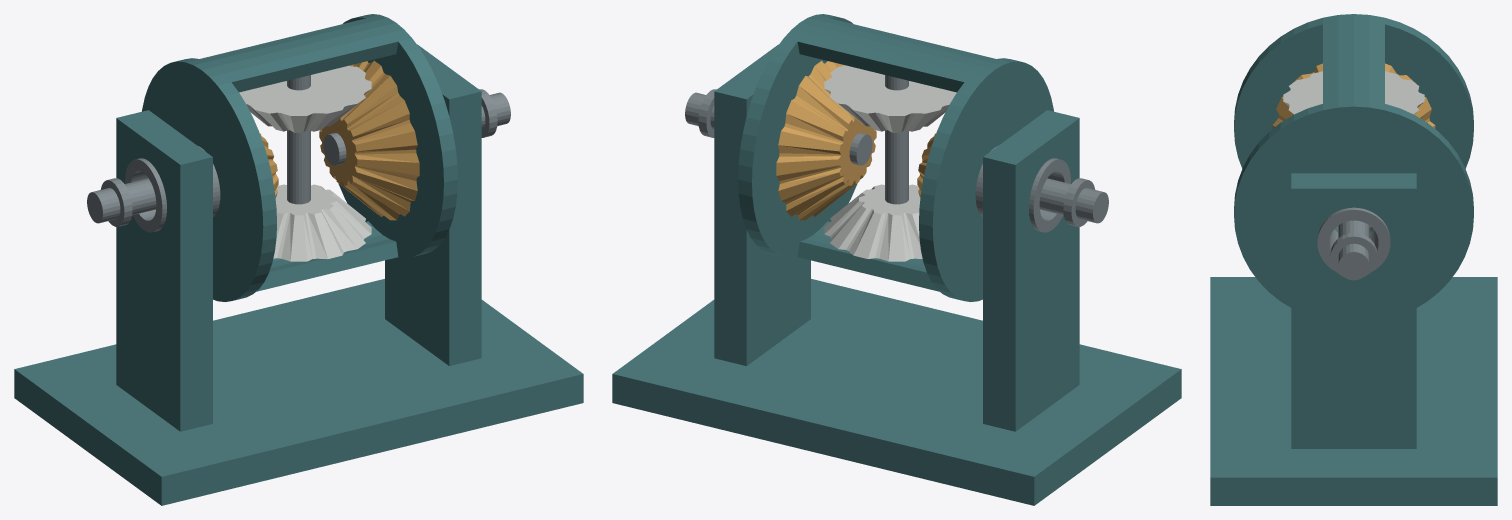
The picture shows the model from 3 angles, left to right: view 1: azimuth 30°, elevation 25°; view 2: azimuth 150°, elevation 25°; view 3: azimuth 270°, elevation 25°; orthographic projection. The views are drawn at different scales.
Visible parts, largest first — view 1: WholeGroundedDisplayBase, WholeTwoWindowIntegralCarrier, LeftWholeBoredPedestal, RightWholeBoredPedestal, RightWholeConicalSideGear, LowerWholeConicalSpiderGear, UpperWholeConicalSpiderGear, WholeCarrierCrossPin, LeftCarrierJournal, LeftWholeOutputStubShaft, RightWholeOutputStubShaft, LeftFixedShaftStop; view 2: WholeGroundedDisplayBase, WholeTwoWindowIntegralCarrier, LeftWholeBoredPedestal, RightWholeBoredPedestal, RightWholeConicalSideGear, LowerWholeConicalSpiderGear, UpperWholeConicalSpiderGear, WholeCarrierCrossPin, LeftCarrierJournal, LeftWholeOutputStubShaft, RightWholeOutputStubShaft, LeftFixedShaftStop; view 3: WholeGroundedDisplayBase, WholeTwoWindowIntegralCarrier, RightWholeBoredPedestal, UpperWholeConicalSpiderGear, RightCarrierJournal, RightWholeOutputStubShaft, RightFixedShaftStop, LeftWholeConicalSideGear.
Part boxes in pixels (bbox=[...]): WholeGroundedDisplayBase: bbox=[14, 279, 583, 505]; WholeTwoWindowIntegralCarrier: bbox=[142, 14, 457, 301]; LeftWholeBoredPedestal: bbox=[116, 110, 212, 431]; RightWholeBoredPedestal: bbox=[385, 44, 481, 365]; RightWholeConicalSideGear: bbox=[319, 60, 419, 220]; LowerWholeConicalSpiderGear: bbox=[273, 184, 371, 261]; UpperWholeConicalSpiderGear: bbox=[239, 65, 371, 132]; WholeCarrierCrossPin: bbox=[287, 75, 310, 204]; LeftCarrierJournal: bbox=[125, 146, 220, 232]; LeftWholeOutputStubShaft: bbox=[87, 178, 156, 223]; RightWholeOutputStubShaft: bbox=[323, 92, 510, 165]; LeftFixedShaftStop: bbox=[100, 178, 132, 226]; WholeGroundedDisplayBase: bbox=[612, 279, 1181, 505]; WholeTwoWindowIntegralCarrier: bbox=[738, 14, 1053, 301]; LeftWholeBoredPedestal: bbox=[983, 110, 1079, 431]; RightWholeBoredPedestal: bbox=[714, 44, 810, 365]; RightWholeConicalSideGear: bbox=[776, 60, 876, 220]; LowerWholeConicalSpiderGear: bbox=[824, 184, 922, 261]; UpperWholeConicalSpiderGear: bbox=[824, 65, 956, 132]; WholeCarrierCrossPin: bbox=[885, 75, 908, 204]; LeftCarrierJournal: bbox=[975, 146, 1070, 232]; LeftWholeOutputStubShaft: bbox=[1039, 178, 1108, 223]; RightWholeOutputStubShaft: bbox=[685, 92, 872, 165]; LeftFixedShaftStop: bbox=[1063, 178, 1095, 226]; WholeGroundedDisplayBase: bbox=[1210, 277, 1497, 505]; WholeTwoWindowIntegralCarrier: bbox=[1234, 14, 1473, 307]; RightWholeBoredPedestal: bbox=[1291, 173, 1416, 448]; UpperWholeConicalSpiderGear: bbox=[1283, 71, 1424, 114]; RightCarrierJournal: bbox=[1317, 207, 1390, 271]; RightWholeOutputStubShaft: bbox=[1338, 220, 1369, 280]; RightFixedShaftStop: bbox=[1330, 232, 1377, 276]; LeftWholeConicalSideGear: bbox=[1272, 63, 1435, 128].
Size of the model in its own units: 1.82 by 1.46 by 1.1.
